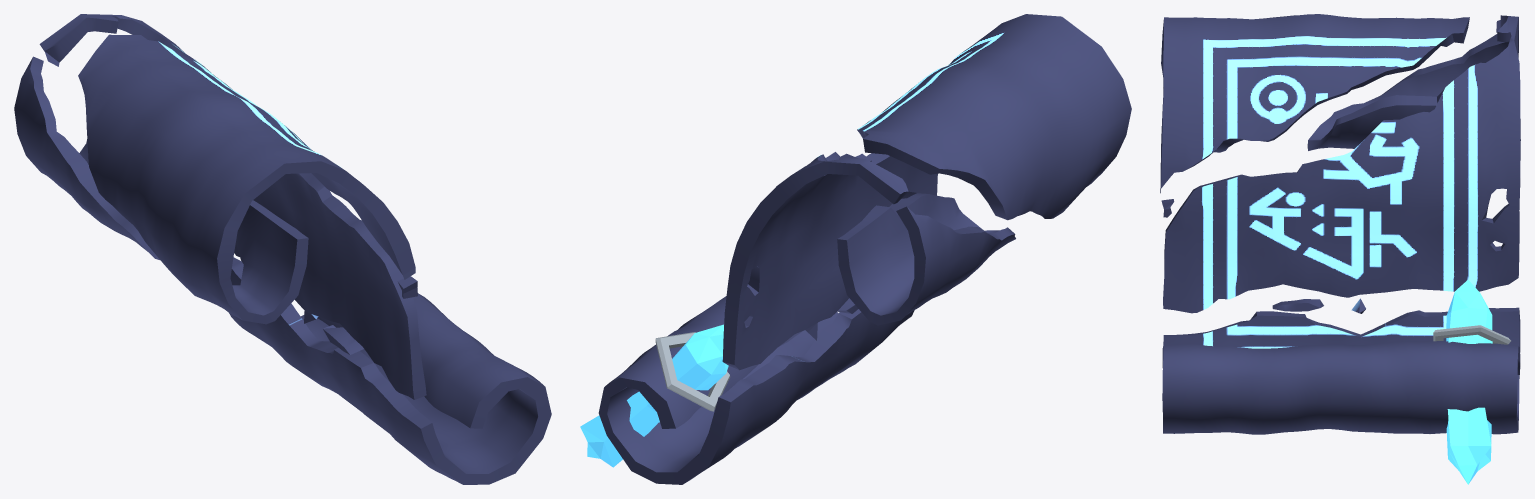
File: PrimalBirthright.fbx
The picture shows the model from 3 angles, left to right: view 1: azimuth 30°, elevation 25°; view 2: azimuth 150°, elevation 25°; view 3: azimuth 270°, elevation 25°; orthographic projection. The views are drawn at different scales.
Parts seen in each view (by area): view 1: Scroll; view 2: Scroll, Crystal, Ring; view 3: Scroll, Crystal, Ring.
Boxes of the visible parts, x1=… form: Scroll: x1=14, y1=14, x2=551, y2=484; Scroll: x1=598, y1=14, x2=1131, y2=484; Crystal: x1=580, y1=324, x2=728, y2=467; Ring: x1=655, y1=332, x2=730, y2=411; Scroll: x1=1160, y1=14, x2=1520, y2=434; Crystal: x1=1446, y1=280, x2=1492, y2=484; Ring: x1=1433, y1=325, x2=1510, y2=344.
Bounding box in the file's own units: 152 × 152 × 146.
